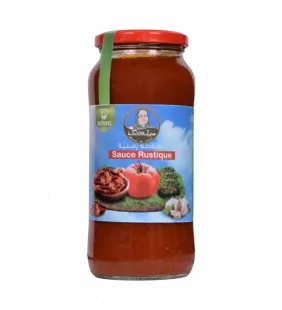DIJA: (76, 20, 204, 291)
